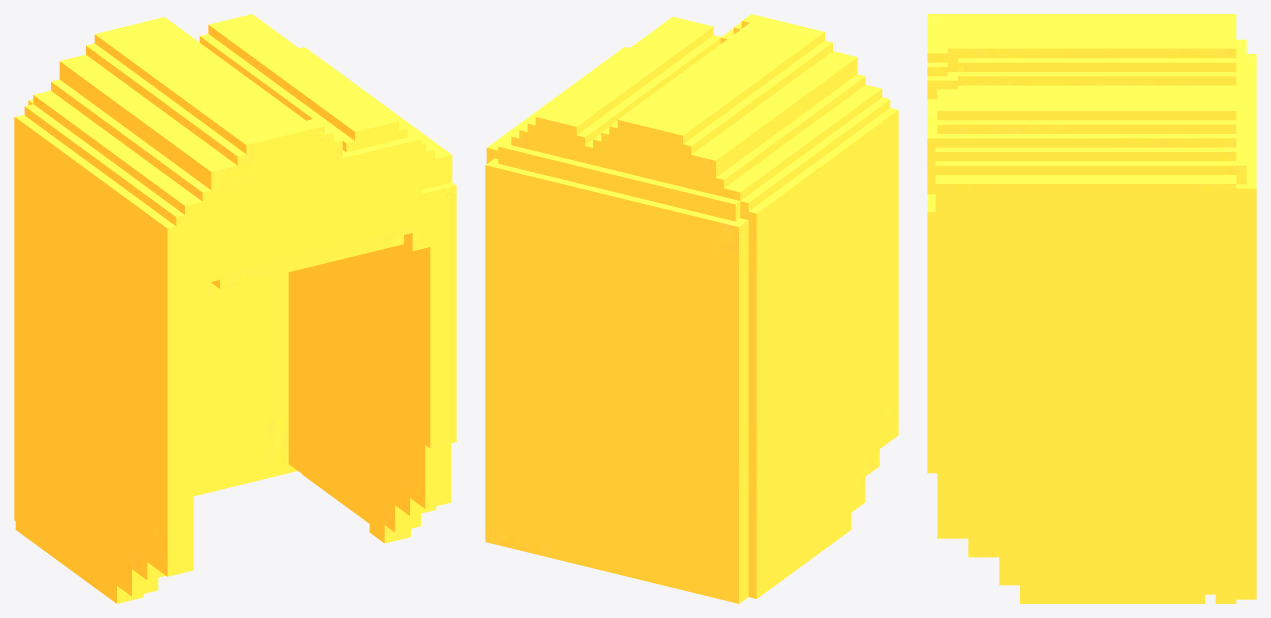
File: long_yellow.glb
3 renders of one model, left to right at view 1: azimuth 30°, elevation 25°; view 2: azimuth 150°, elevation 25°; view 3: azimuth 270°, elevation 25°, orthographic. The views are drawn at different scales.
Parts seen in each view (by area): view 1: long_female_unwrpped; view 2: long_female_unwrpped; view 3: long_female_unwrpped.
Boxes of the visible parts, <box> form: long_female_unwrpped: <box>14,14,456,603</box>; long_female_unwrpped: <box>485,14,898,603</box>; long_female_unwrpped: <box>927,14,1256,603</box>.
Bounding box in the file's own units: 3.3 × 5.2 × 3.2.
1 material, 1 textured.
